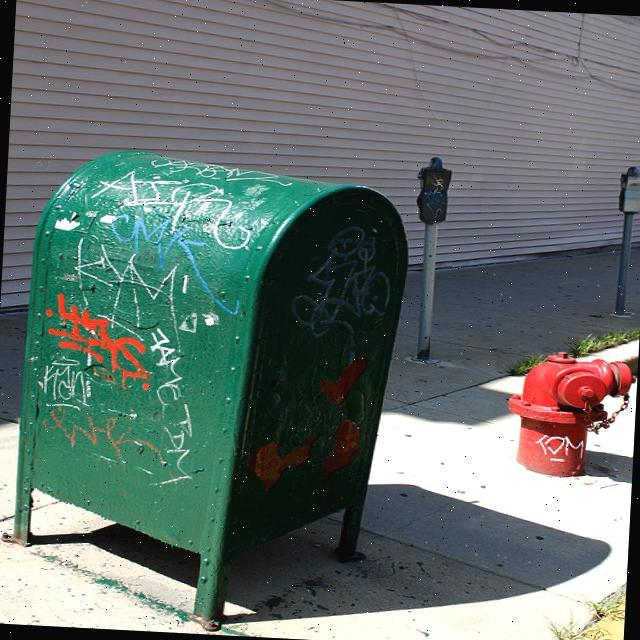fire_hydrant: (504, 350, 638, 480)
